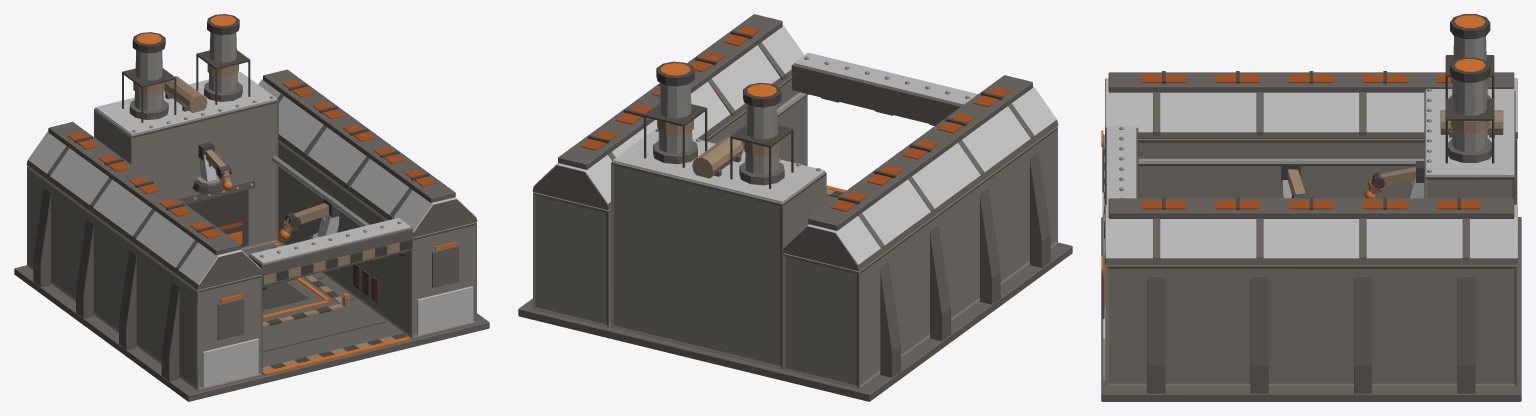
File: crucible_bot_lab.glb
3 views of the same model, side by side, from view 1: azimuth 30°, elevation 25°; view 2: azimuth 150°, elevation 25°; view 3: azimuth 270°, elevation 25° (orthographic). The views are drawn at different scales.
Visible parts, largest first — view 1: Body; view 2: Body; view 3: Body.
Part boxes in pixels (x1,y1,x2,y2): Body: (14,14,489,401); Body: (518,14,1072,401); Body: (1101,14,1521,401).
Bounding box in the file's own units: 22.8 × 16.17 × 22.8.
